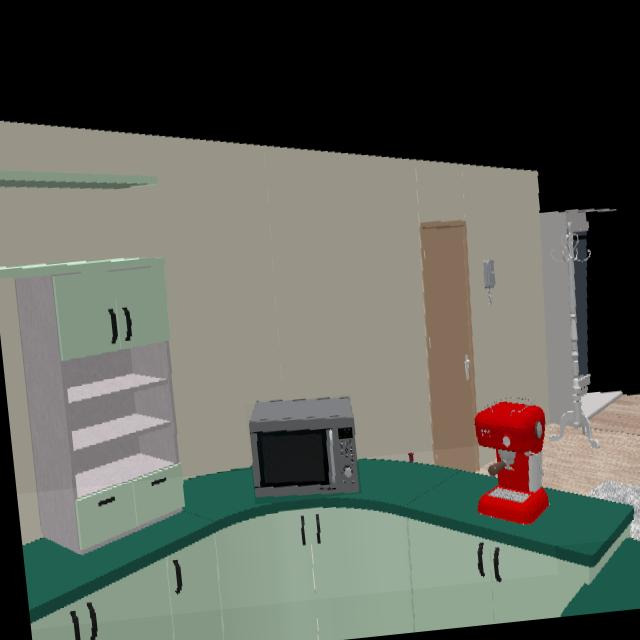cabinet: (32, 508, 588, 640)
countertop: (23, 462, 633, 625), (563, 540, 640, 615)
microwave: (249, 399, 359, 494)
